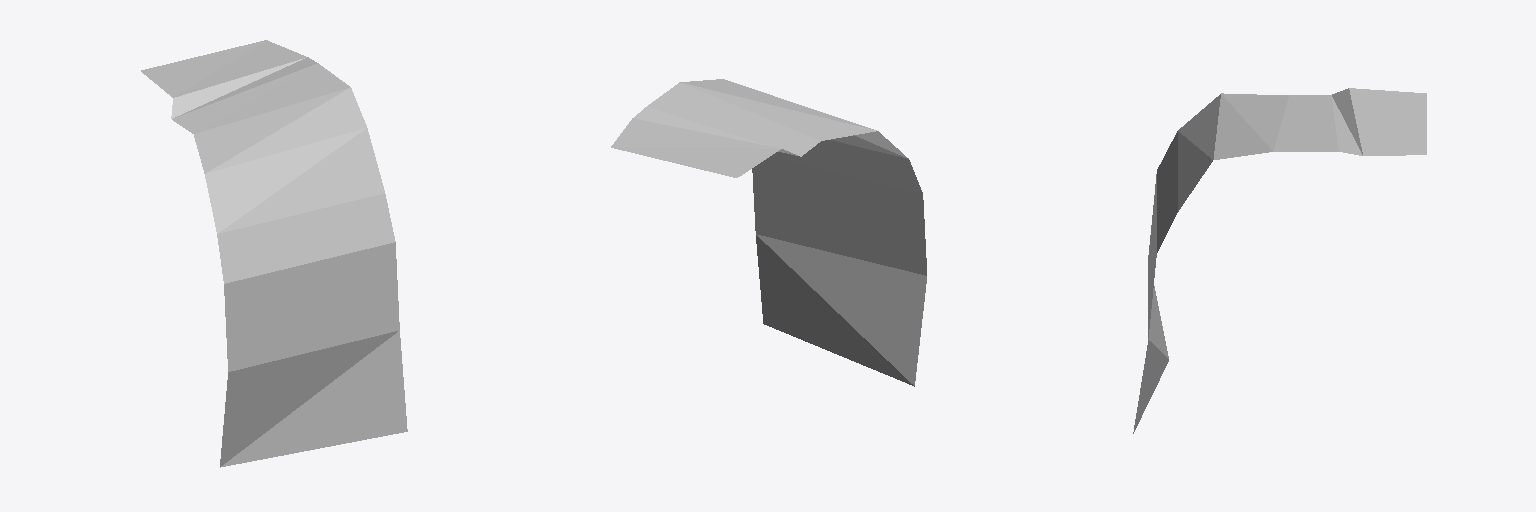
The model's file is Water falling.obj.
3 views of the same model, side by side, from view 1: azimuth 30°, elevation 25°; view 2: azimuth 150°, elevation 25°; view 3: azimuth 270°, elevation 25° (orthographic).
Bounding box in the file's own units: 30.46 × 46.28 × 41.44.